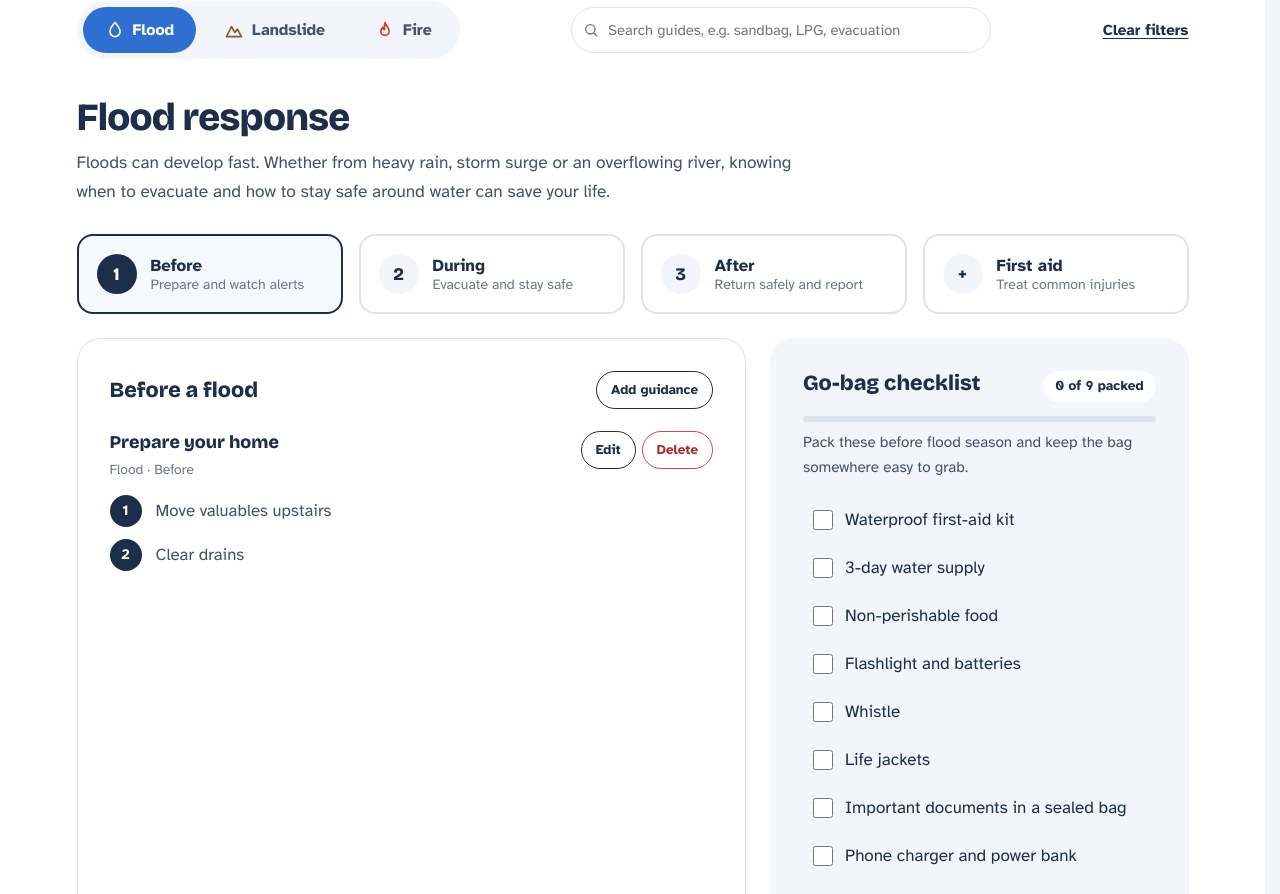
Edit opens the card in place with its own title and steps
(page scrolled)
Click the button "Edit" at (608, 450), box left=581, top=431, right=636, bottom=470
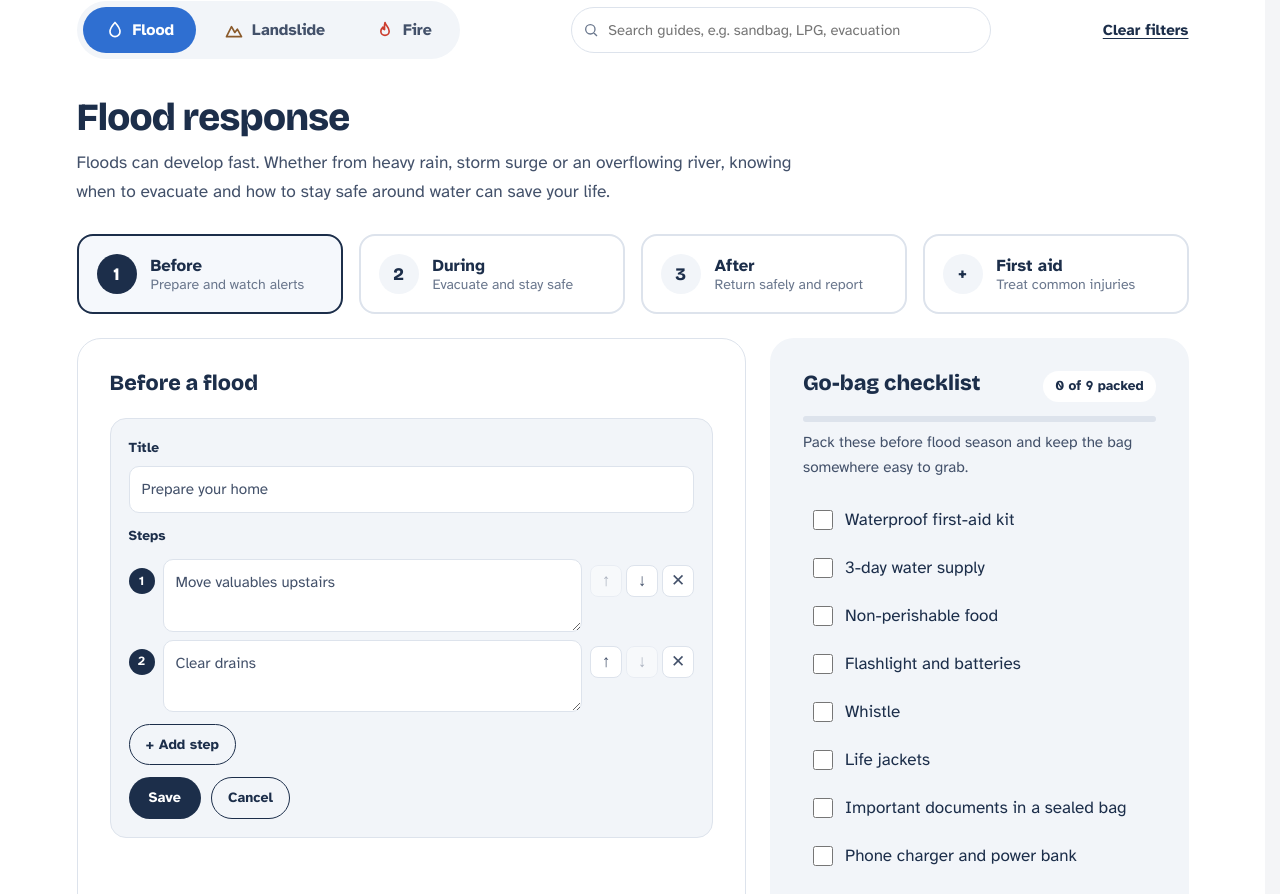
Now the field labelled "Title" holds "Prepare your home", box left=128, top=466, right=694, bottom=513
